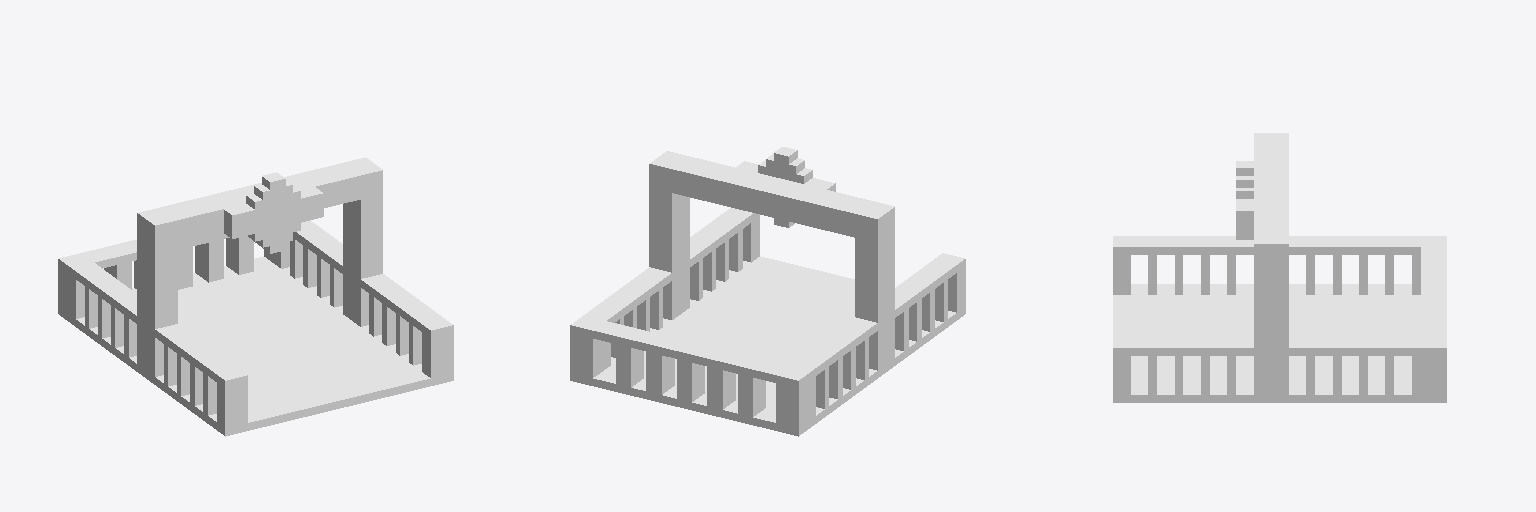
File: Metro_02.obj
3 views of the same model, side by side, from view 1: azimuth 30°, elevation 25°; view 2: azimuth 150°, elevation 25°; view 3: azimuth 270°, elevation 25° (orthographic).
Visible parts, largest first — view 1: object 1; view 2: object 1; view 3: object 1.
Part boxes in pixels (bbox=[...]): object 1: bbox=[58, 157, 453, 436]; object 1: bbox=[570, 147, 965, 436]; object 1: bbox=[1113, 133, 1446, 402].
Size of the model in its own units: 3 by 2.3 by 3.8.